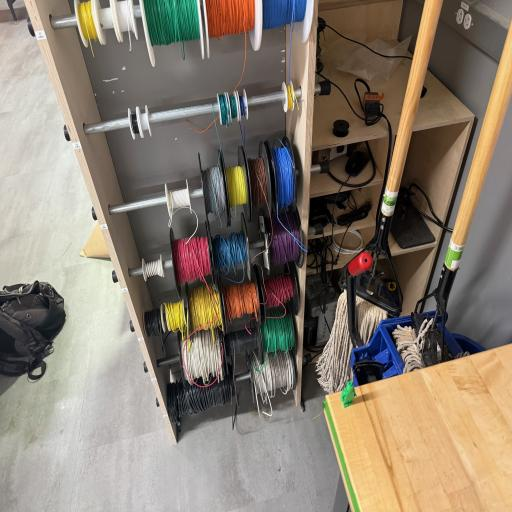Lego-Dude: (341, 381, 357, 407)
